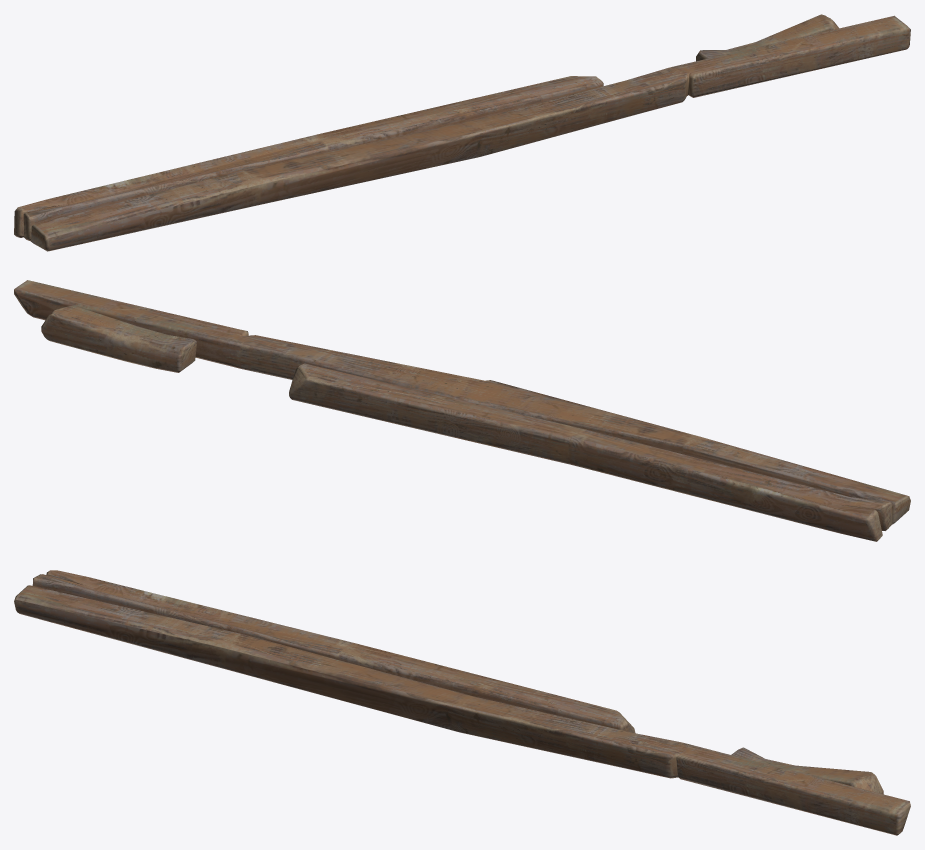
The model's file is SM_post_02.gltf.
3 views of the same model, one above another, from view 1: azimuth 30°, elevation 25°; view 2: azimuth 150°, elevation 25°; view 3: azimuth 330°, elevation 25° (orthographic). The views are drawn at different scales.
Parts seen in each view (by area): view 1: SM_post_02; view 2: SM_post_02; view 3: SM_post_02.
Boxes of the visible parts, x1,y1,x2,y2 form: SM_post_02: (14,14,910,251); SM_post_02: (14,280,910,541); SM_post_02: (14,570,910,835).
Size of the model in its own units: 3 by 0.1121 by 0.2648.
1 material, 1 textured.
